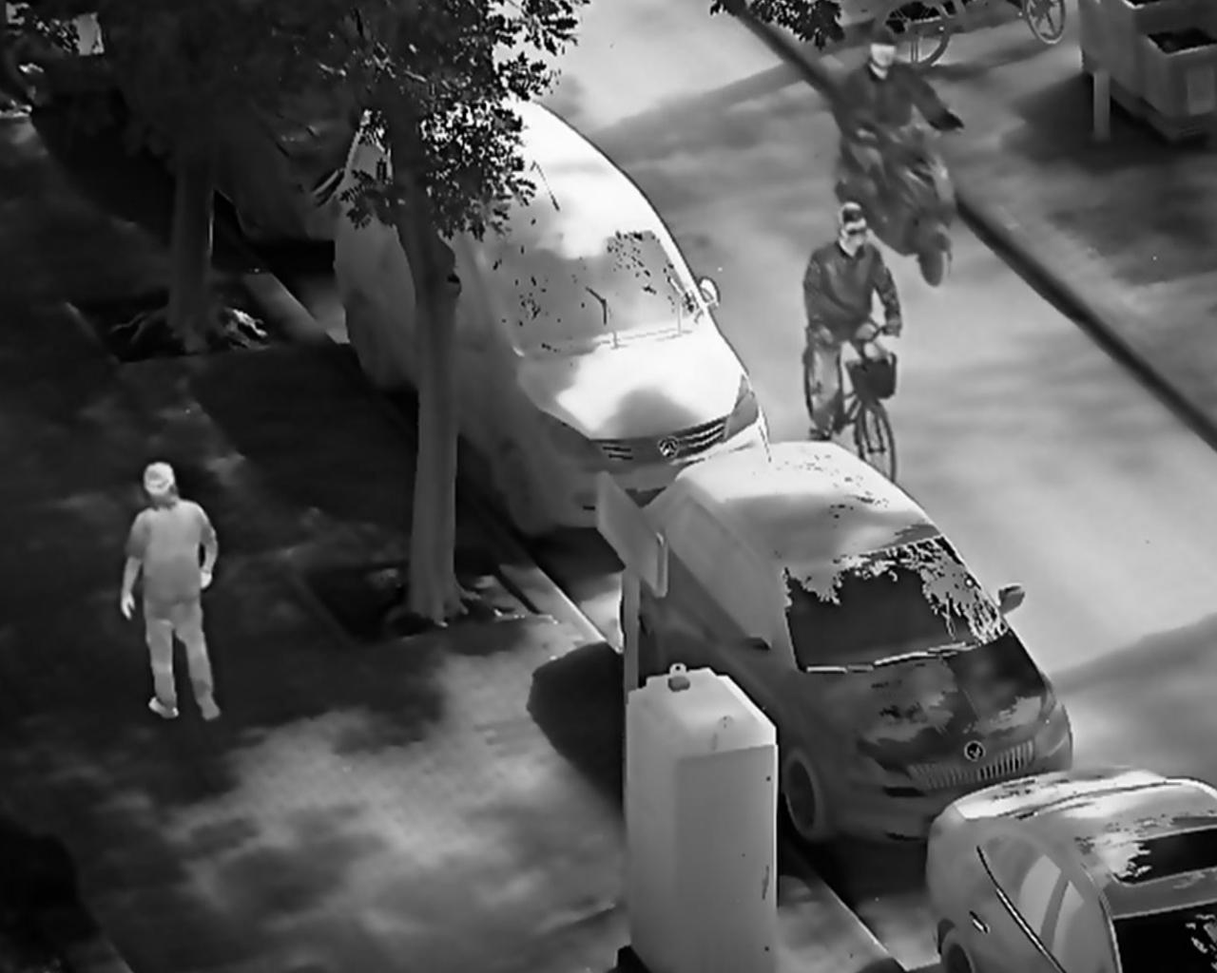person: (116, 460, 221, 724), (797, 198, 904, 447), (831, 28, 956, 210)
